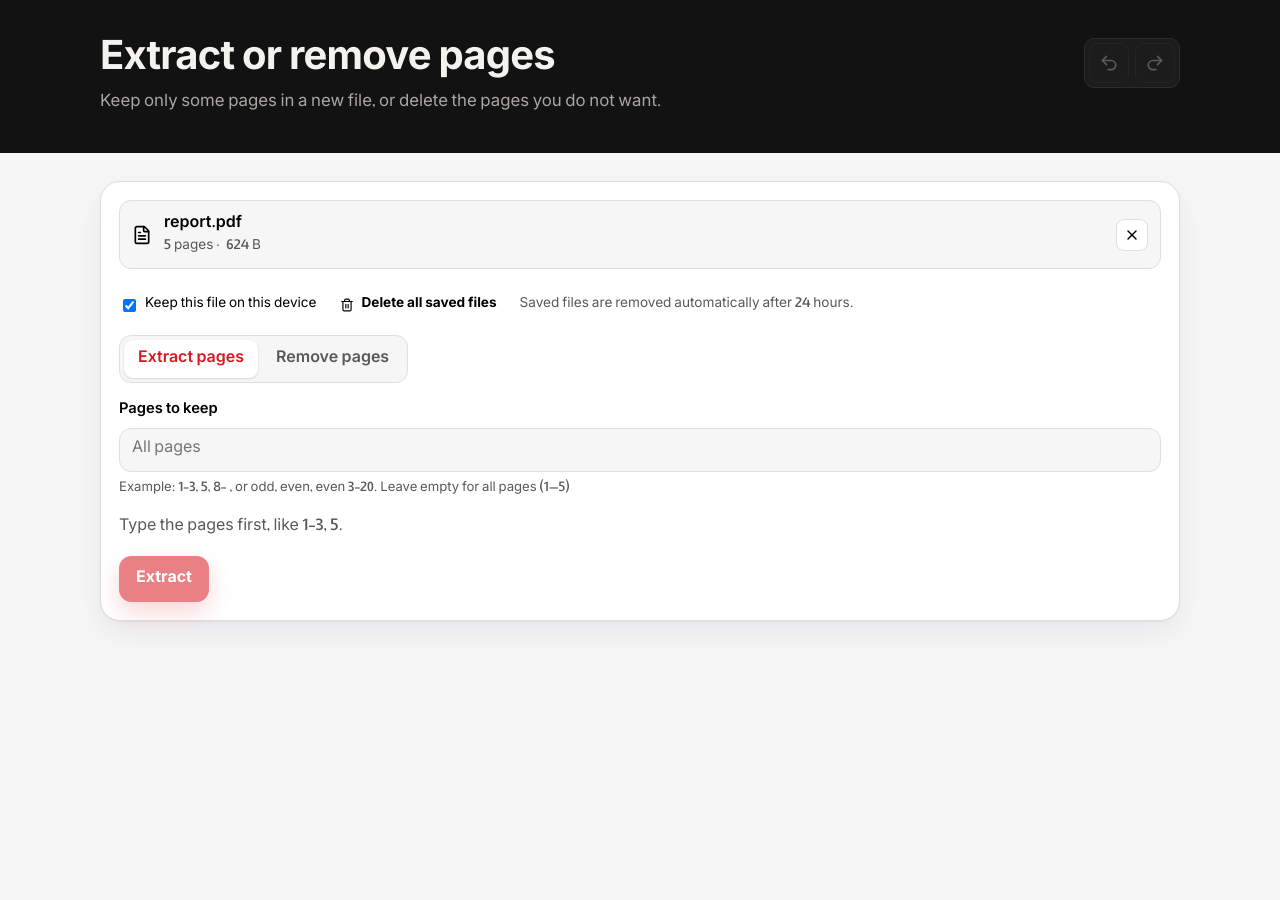
Test: page tools › extracts the pages named, and removes the others when asked
The width and height of the screenshot is (1280, 900).
Earlier steps of the test are not shown.
Expected: the text "5 pages · 624 B" is shown, [164,236,261,258]
Expected: the button "Extract" is disabled, [119,556,209,602]
Type "2, 4" into the field with placeholder "All pages" at (640, 450), box [119,428,1161,472]
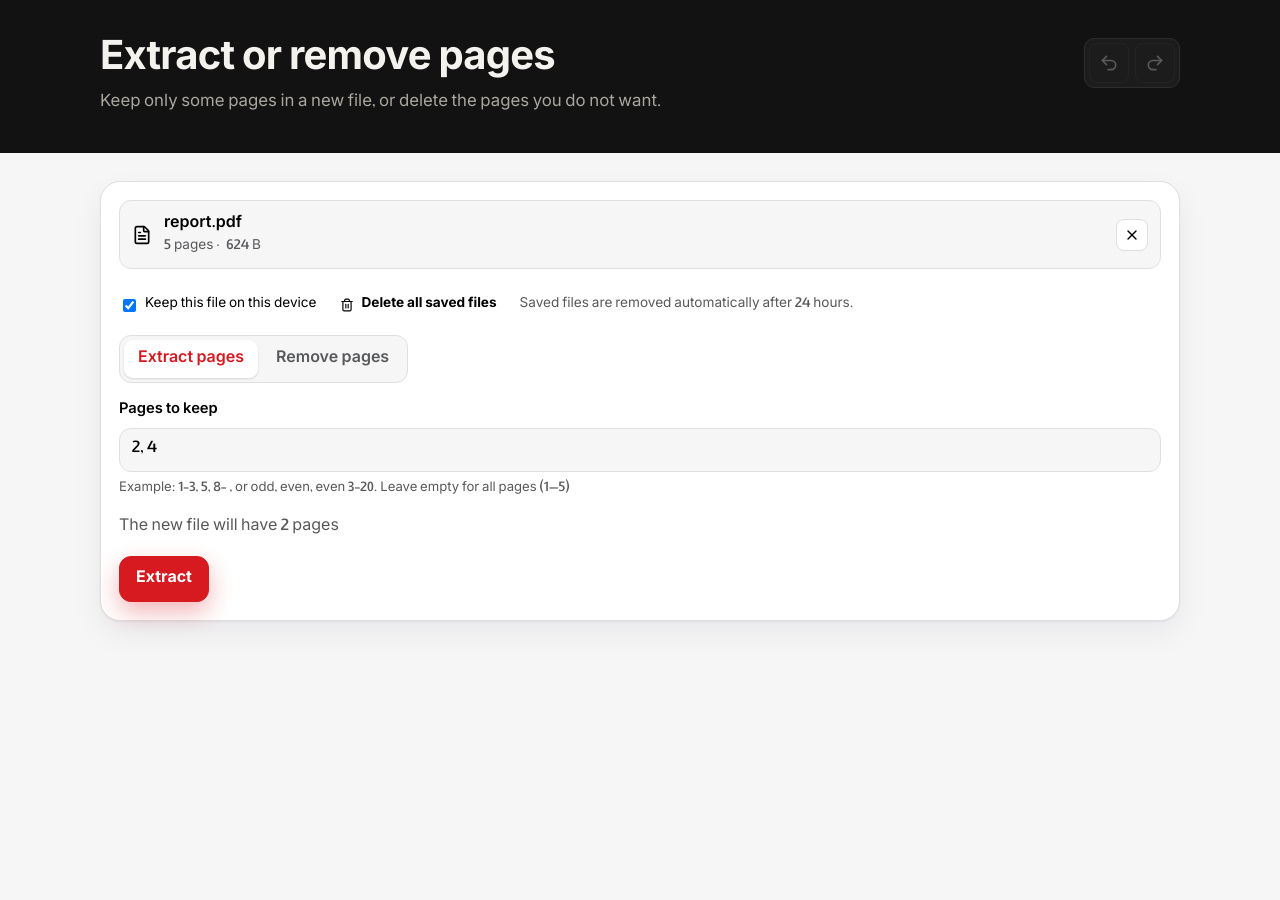
Click the button "Extract" at (164, 579), box [119,556,209,602]
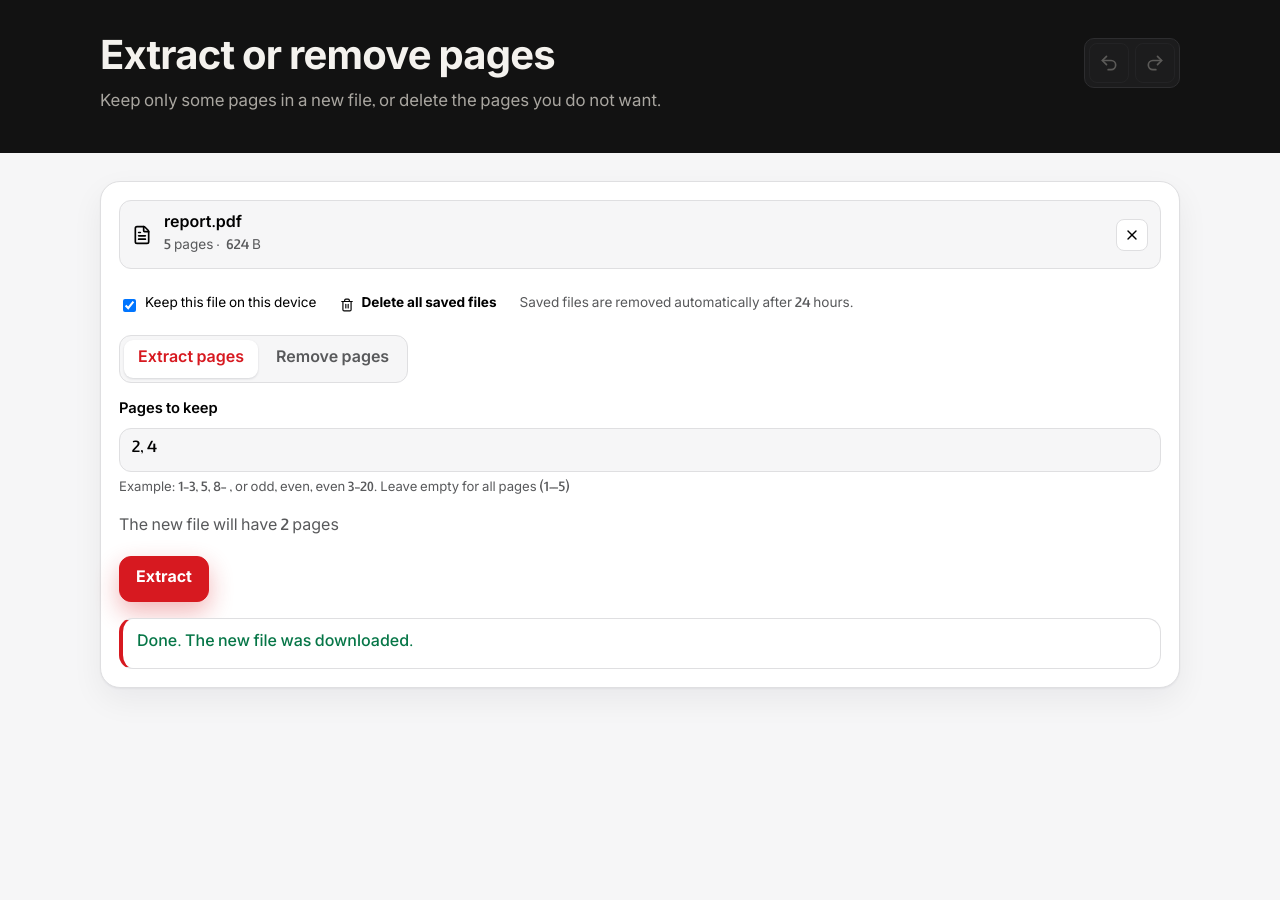
Click the tab "Remove pages" at (333, 359), box [262,340,403,378]
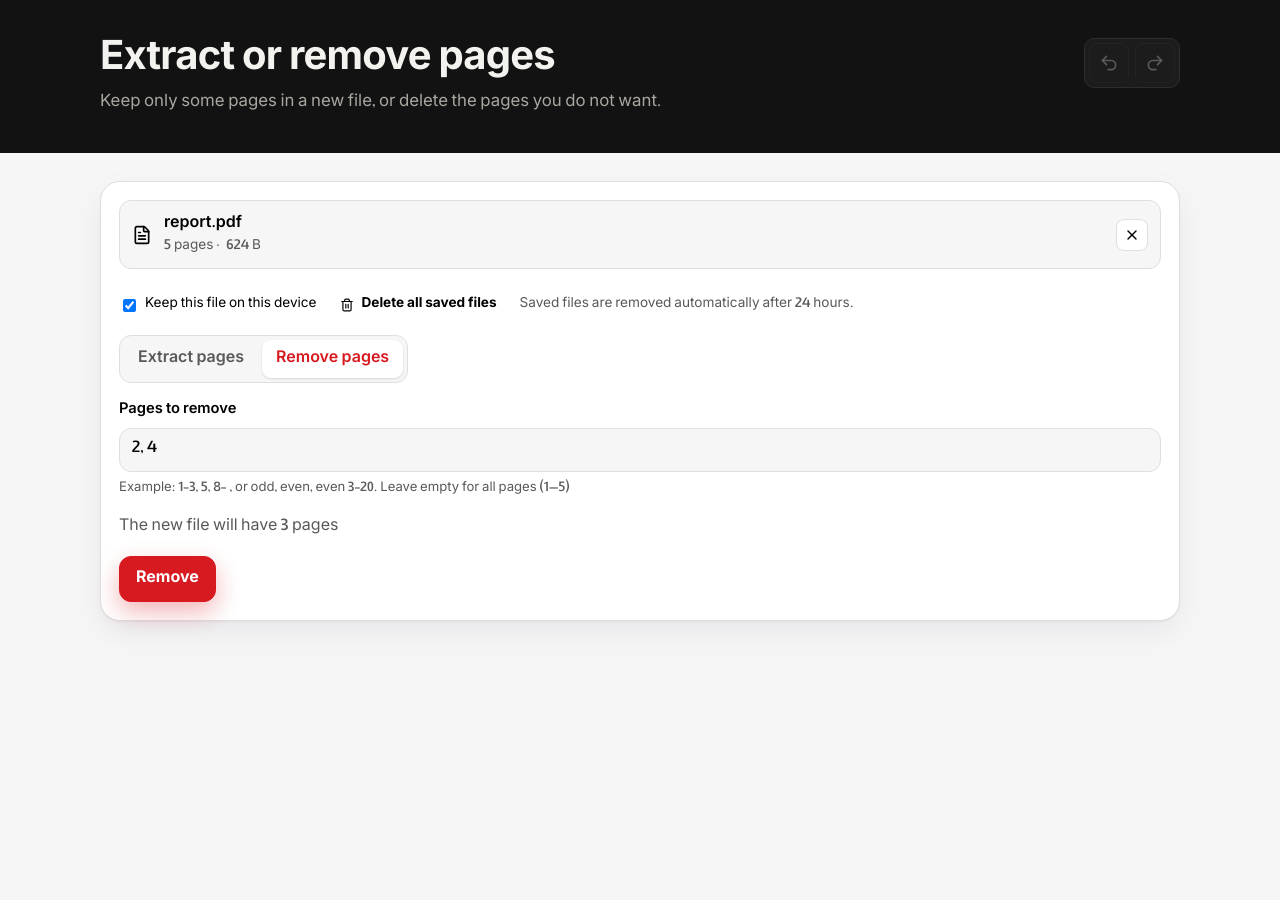
Click the button "Remove" at (167, 579), box [119,556,216,602]
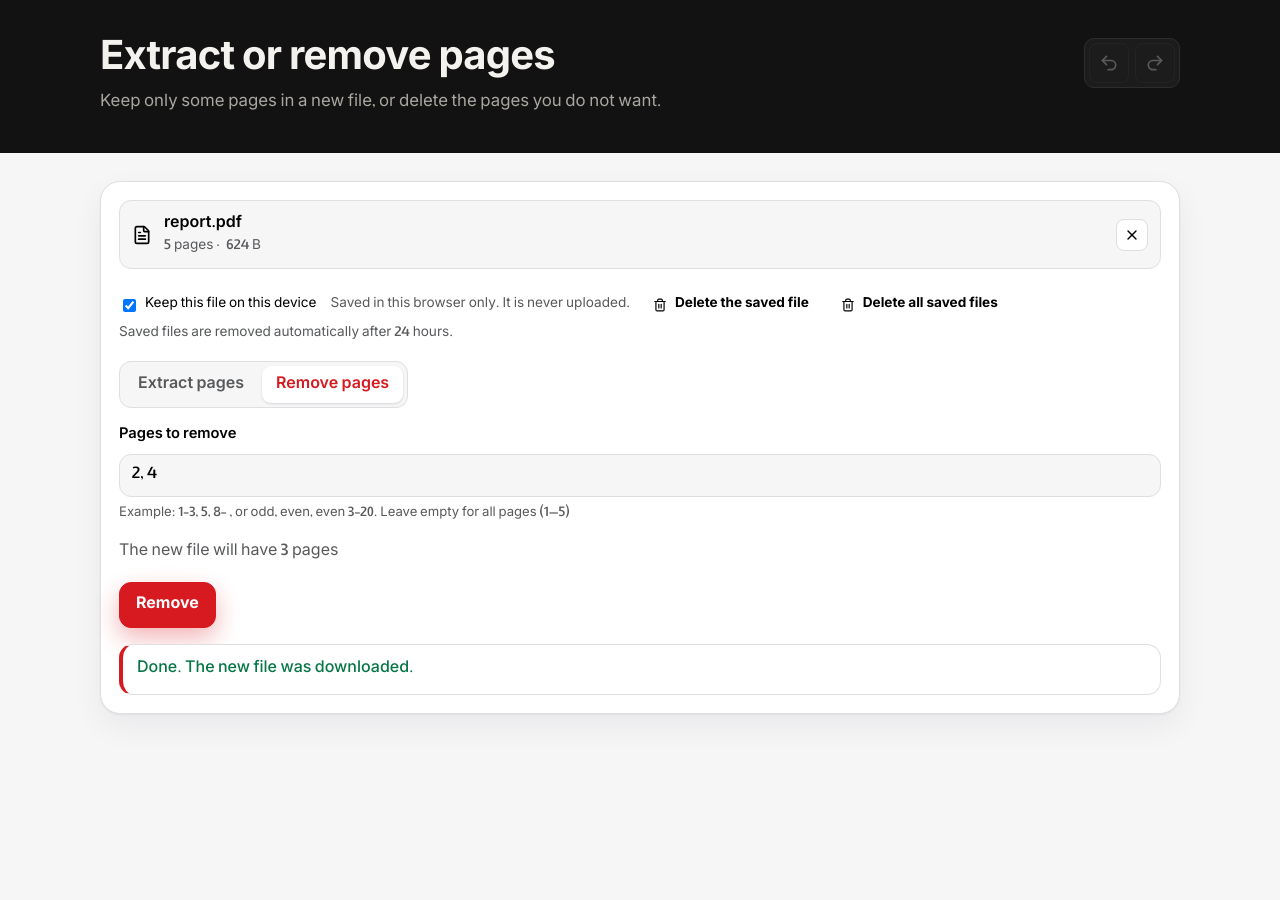
Replace the text in the field with placeholder "All pages" with "1-5" at (640, 476), box [119,454,1161,498]
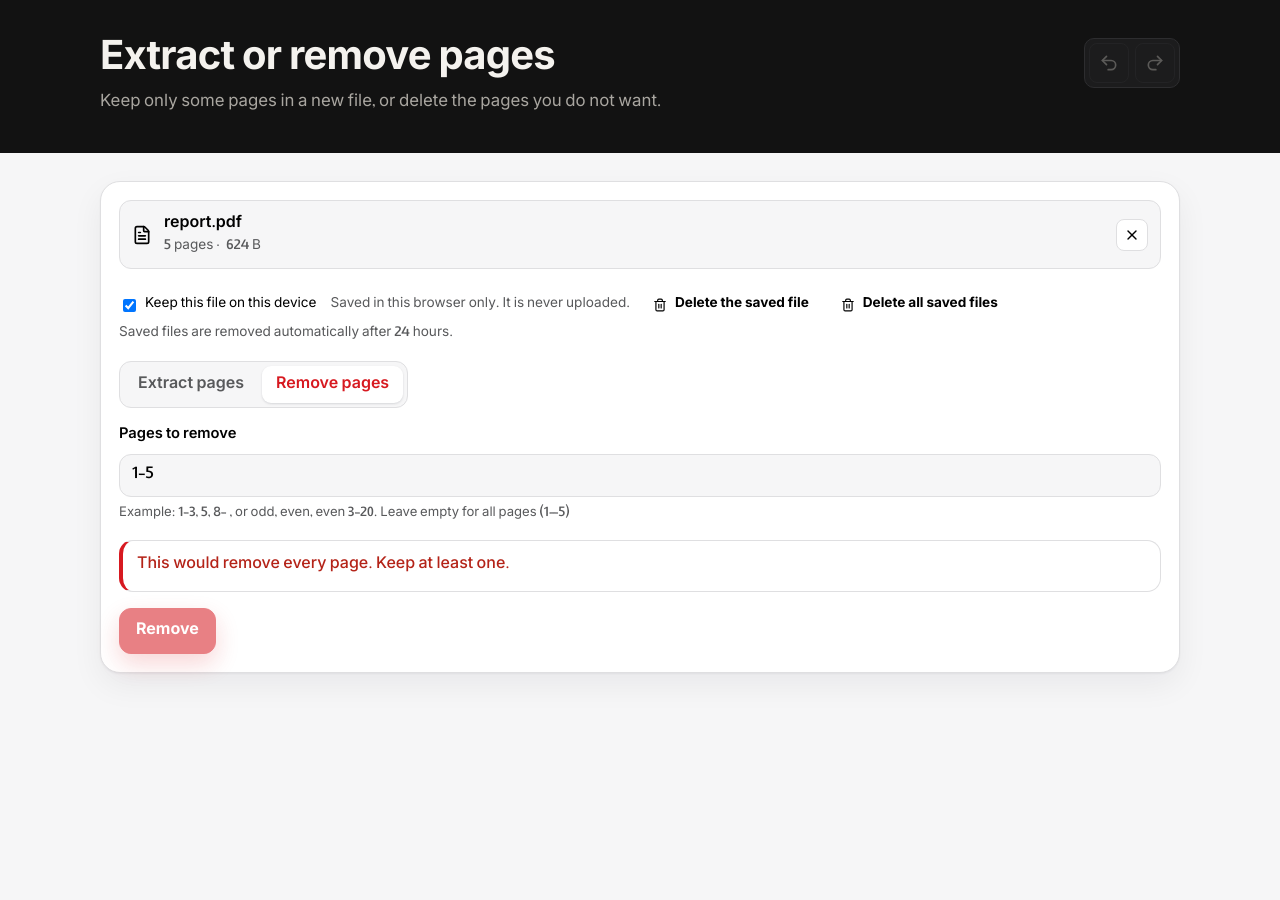
Result: the text "This would remove every page. Keep at least one." is shown at [119,540,1161,592]
Result: the button "Remove" is disabled at [119,608,216,654]
